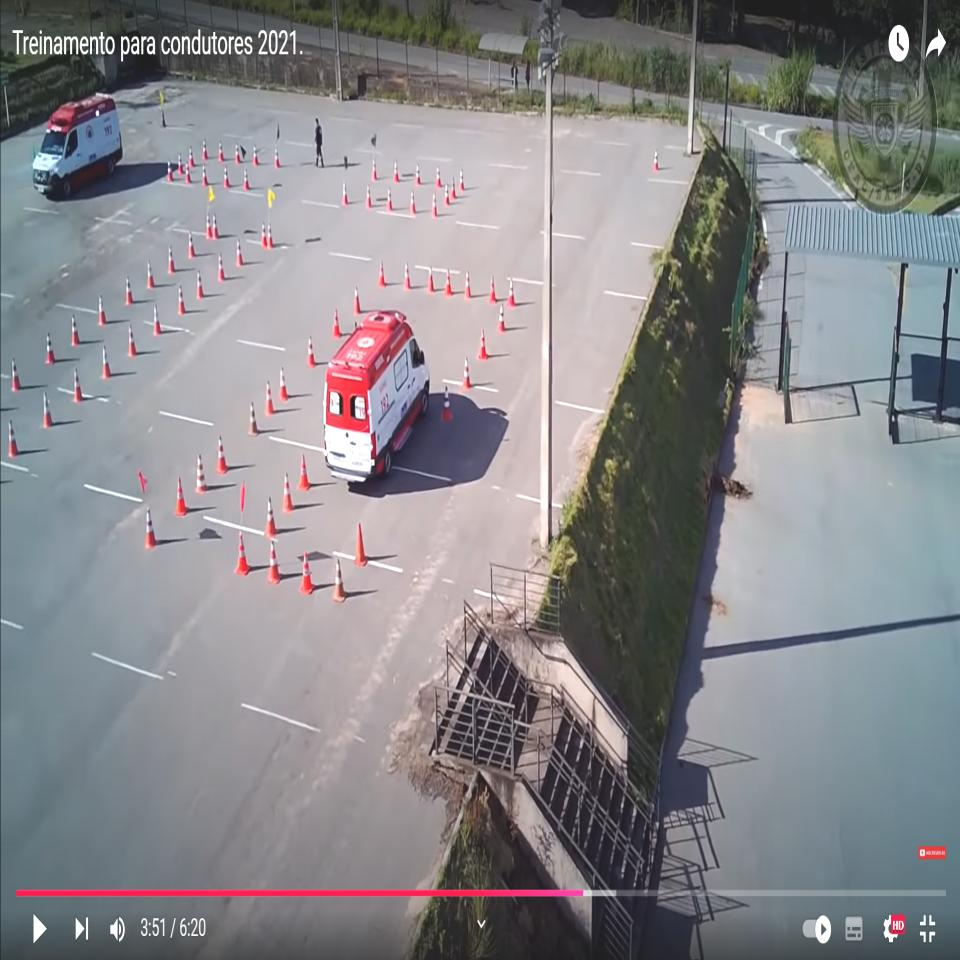ambulancia: (321, 308, 433, 486), (34, 96, 122, 203)
